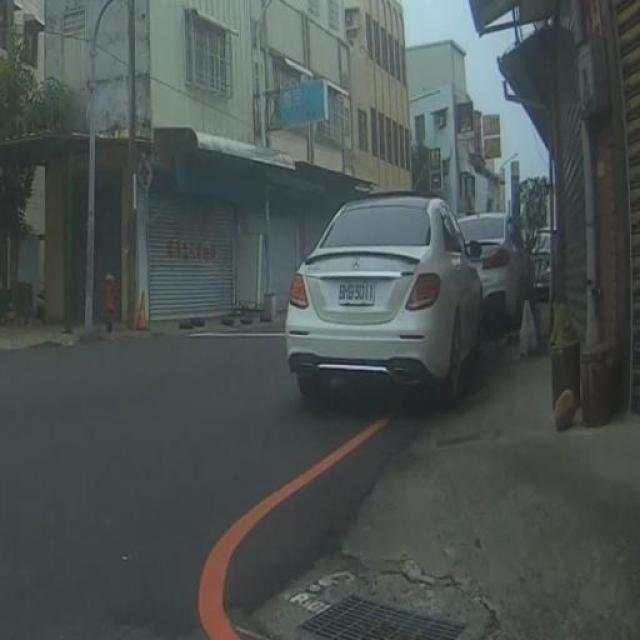illegalparking: (288, 192, 522, 399)
